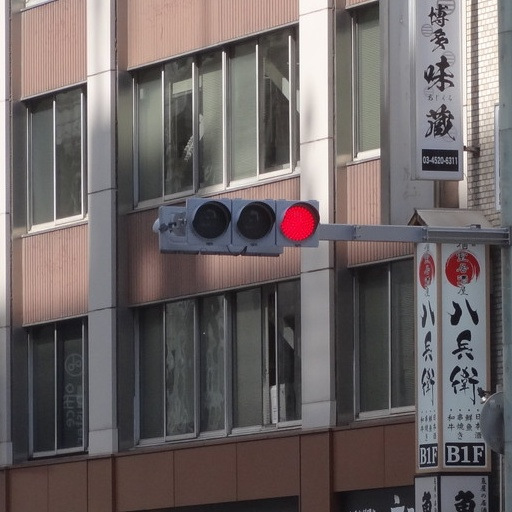Traffic_Signal_Red: (181, 198, 324, 244)
